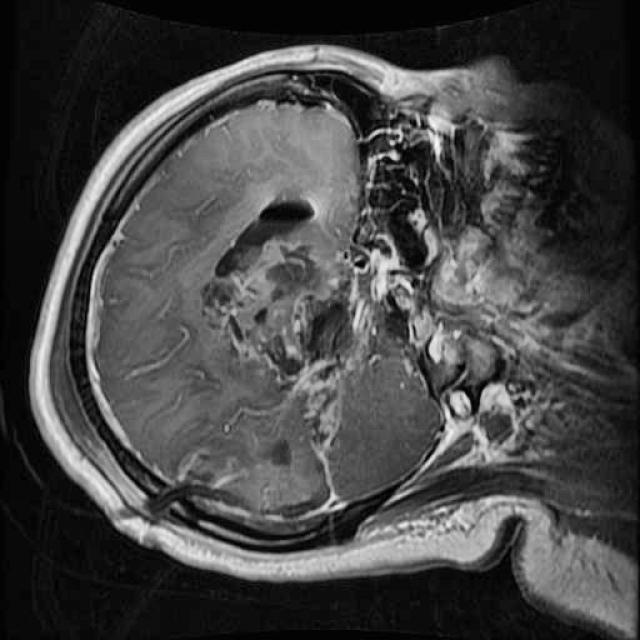Non-Tumor: (196, 218, 404, 459)
